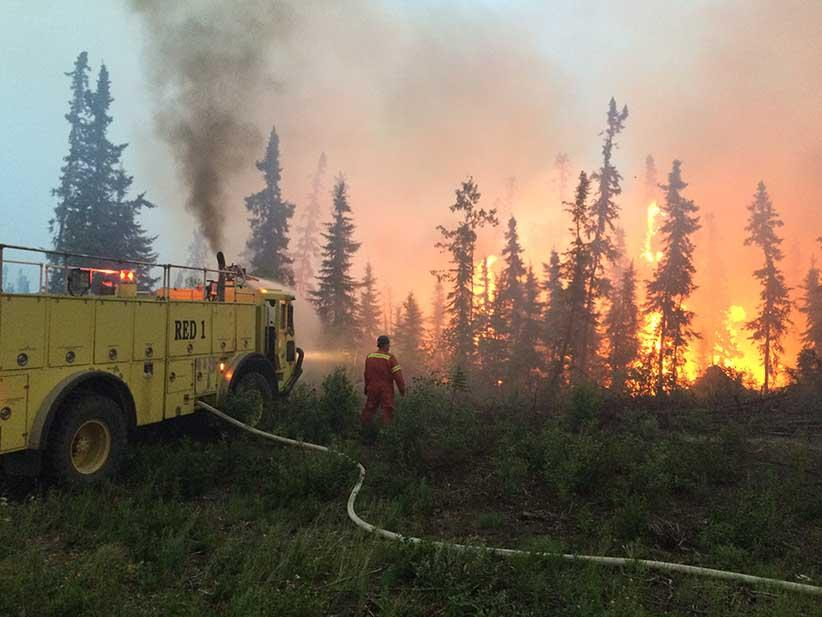fire: (705, 312, 764, 386), (632, 203, 672, 289), (467, 259, 503, 307)
